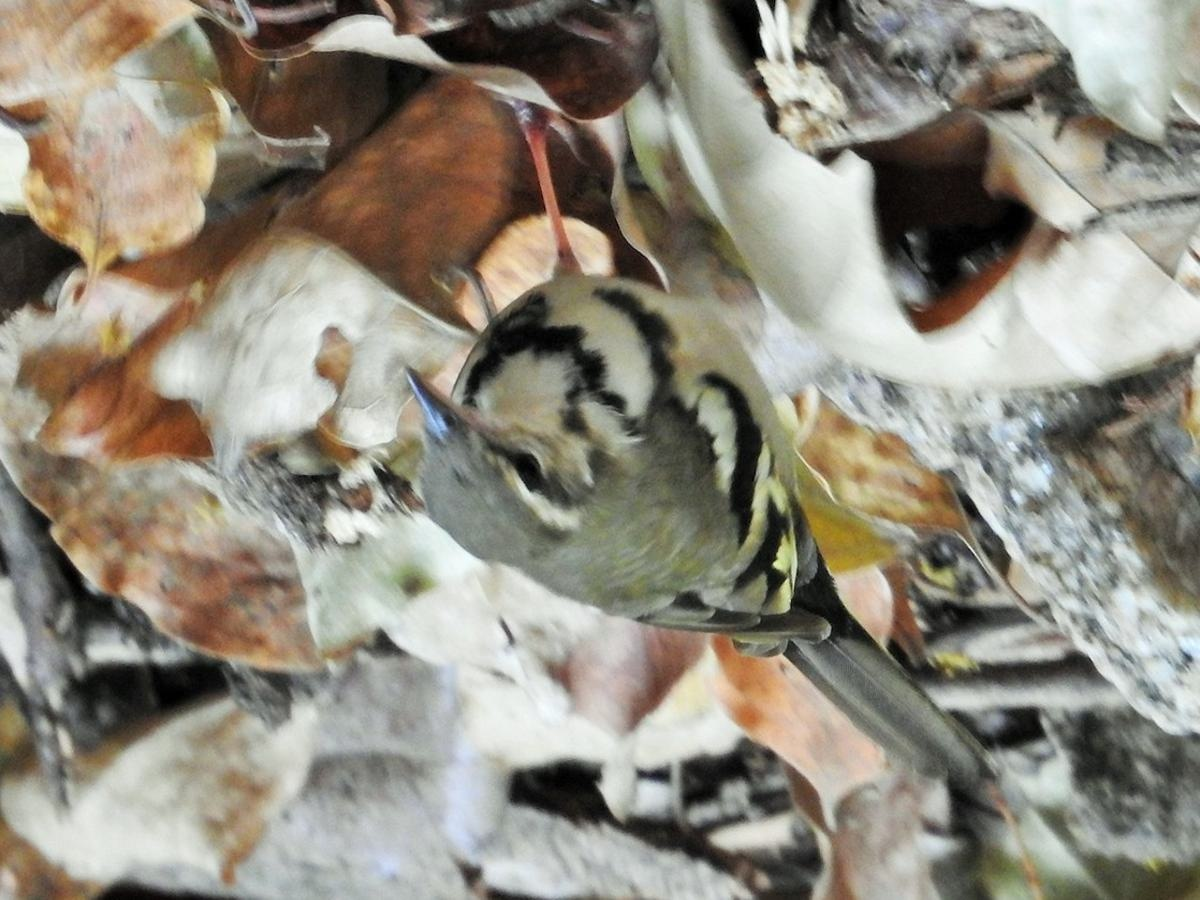wagtail: (378, 221, 894, 695)
